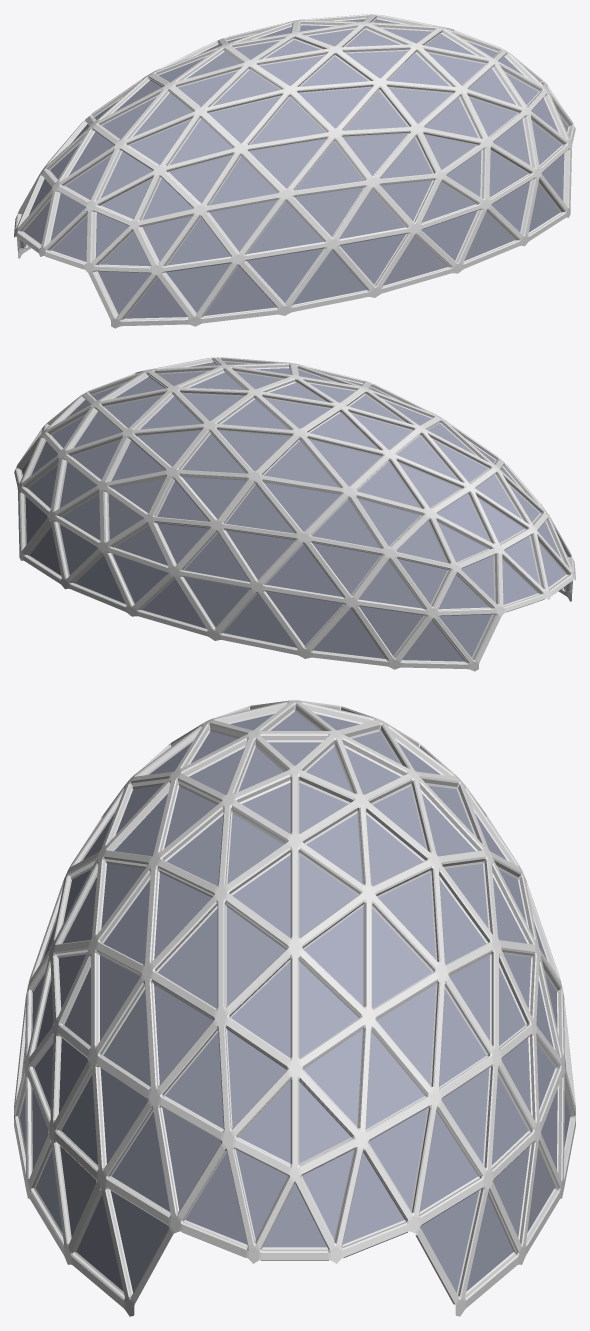
The model's file is Station.fbx.
The picture shows the model from 3 angles, top to bottom: view 1: azimuth 30°, elevation 25°; view 2: azimuth 150°, elevation 25°; view 3: azimuth 270°, elevation 25°; orthographic projection. The views are drawn at different scales.
Parts seen in each view (by area): view 1: Station; view 2: Station; view 3: Station.
Part boxes in pixels (left/top/right/bottom): Station: left=14, top=14, right=575, bottom=328; Station: left=14, top=357, right=575, bottom=671; Station: left=14, top=700, right=575, bottom=1316.
Size of the model in its own units: 1700 by 620 by 890.
